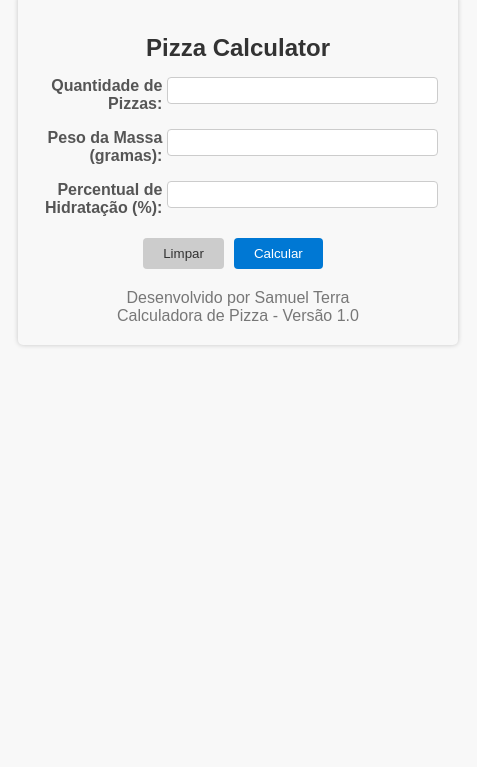
Test: Calculator › exibe mensagem de sucesso ao calcular corretamente
The image size is (477, 767).
# Insere valores válidos nos campos
Type "5" into the number field labelled "Quantidade de Pizzas:" at {"x": 303, "y": 90}, box top-left (167, 77), bottom-right (438, 104)
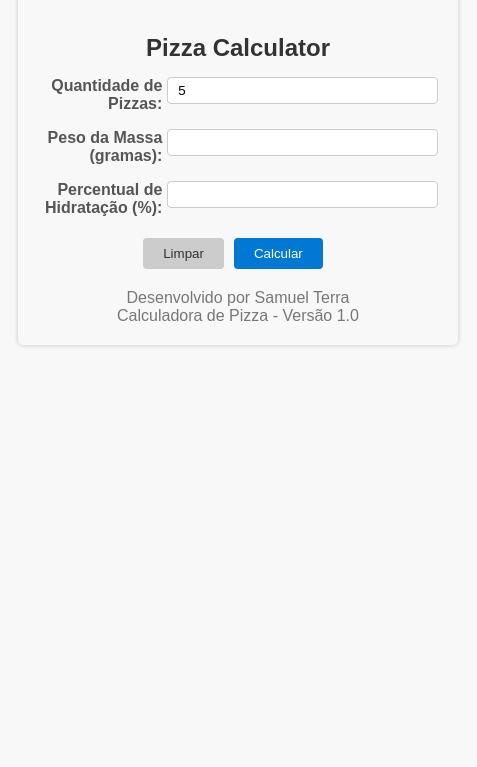
Type "300" into the number field labelled "Peso da Massa (gramas):" at {"x": 303, "y": 142}, box top-left (167, 129), bottom-right (438, 156)
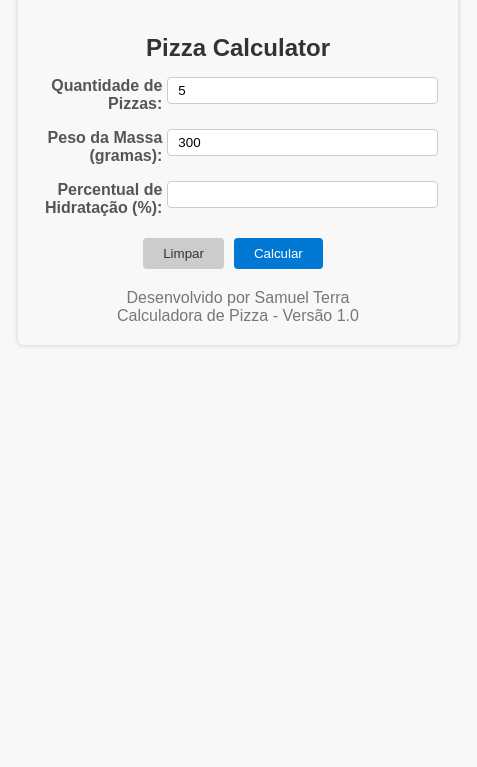
Type "60" into the number field labelled "Percentual de Hidratação (%):" at {"x": 303, "y": 194}, box top-left (167, 181), bottom-right (438, 208)
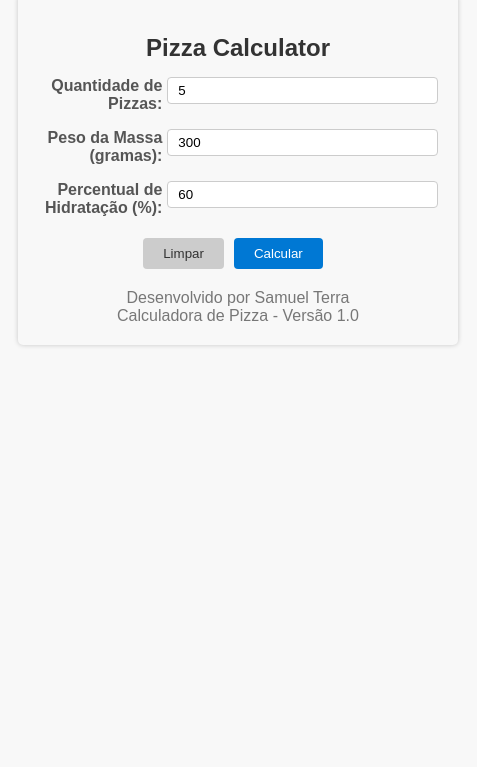
Click the button "Calcular" at {"x": 278, "y": 253}, box top-left (234, 238), bottom-right (323, 269)
(page scrolled)
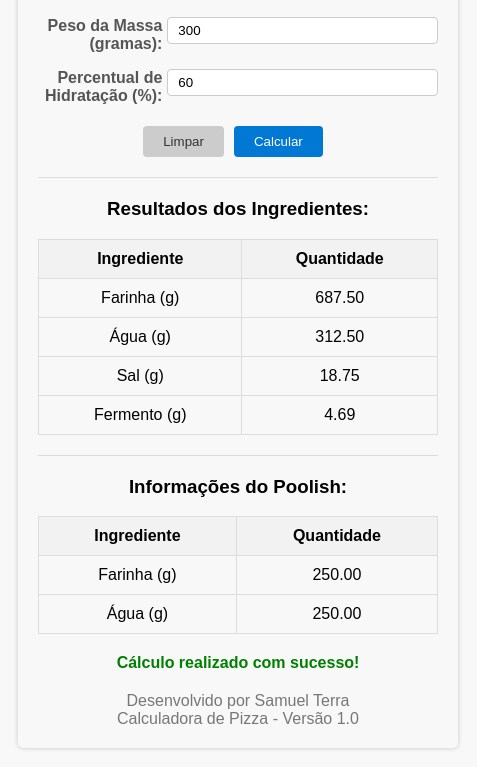
Now the text "Cálculo realizado com sucesso!" is shown, box top-left (117, 654), bottom-right (359, 671)
